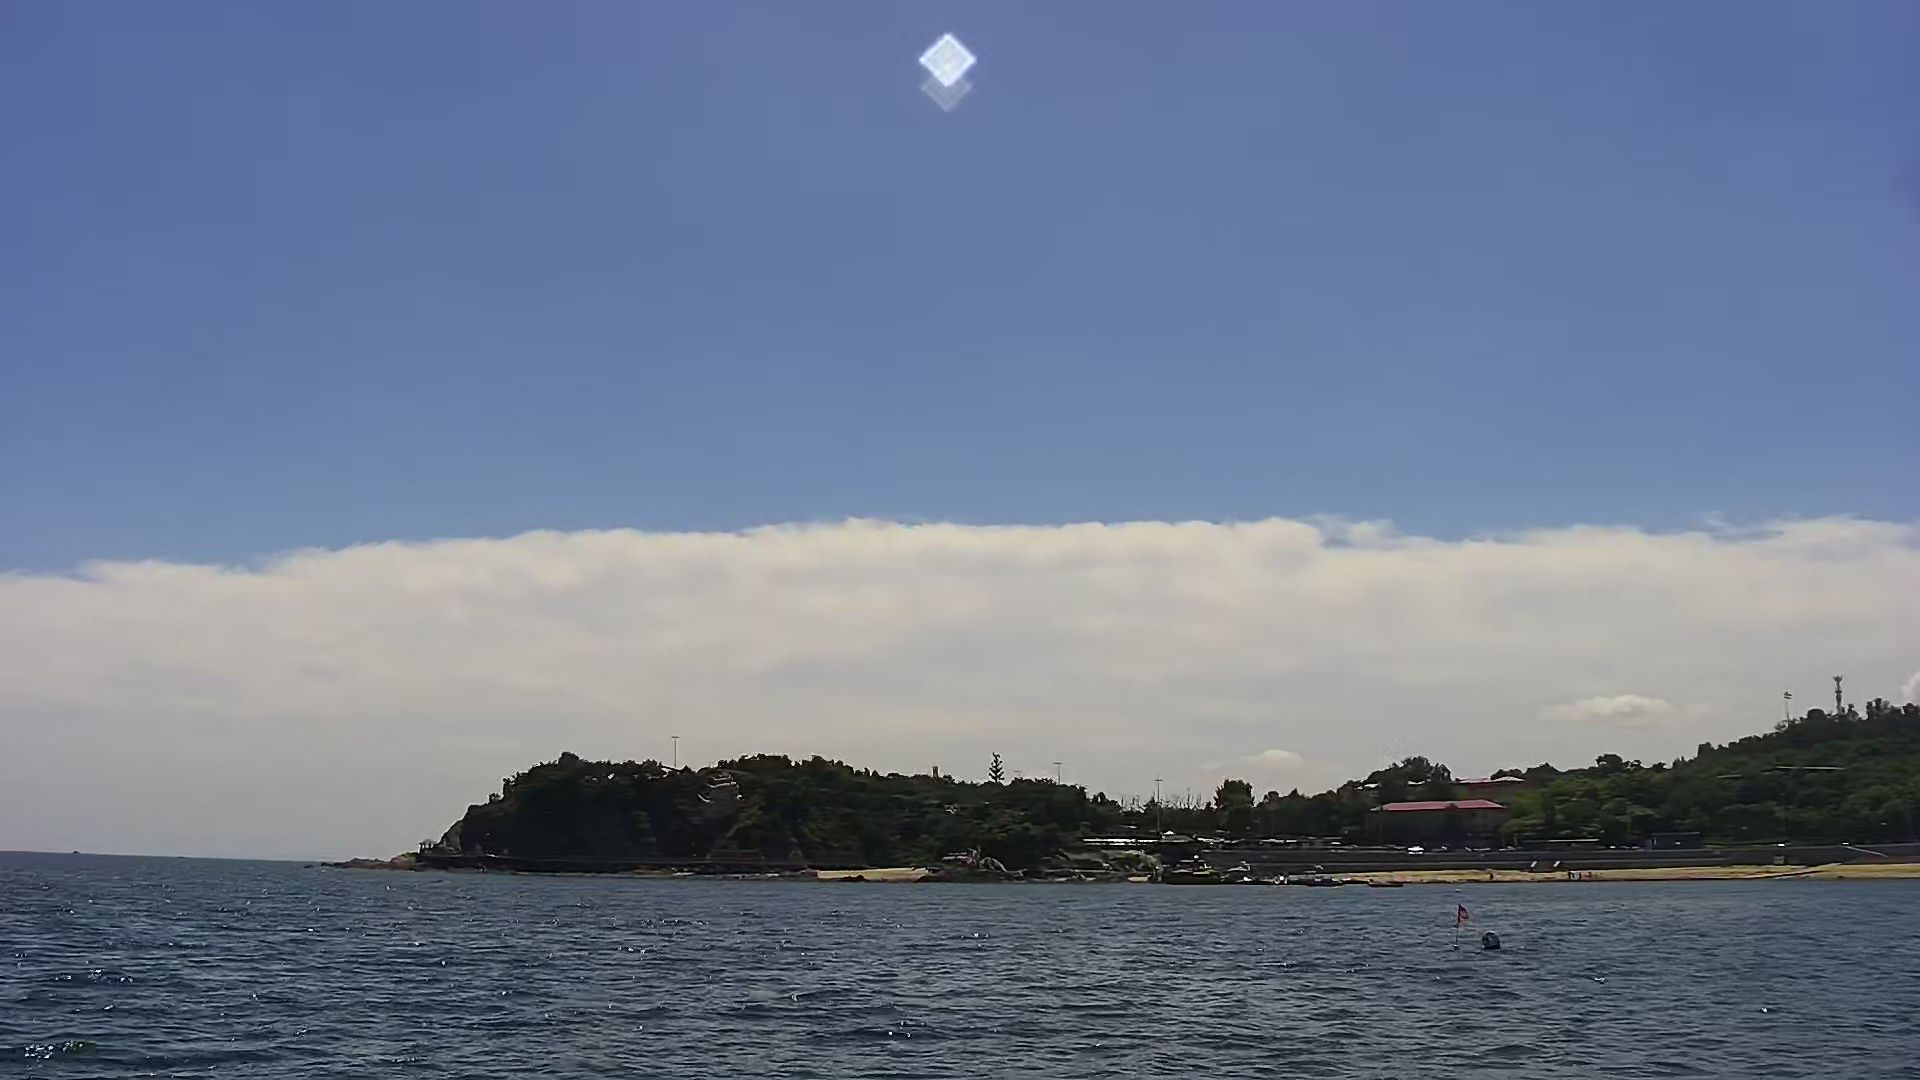ball: (1477, 927, 1507, 949)
boat: (1143, 862, 1276, 885)
buoy: (1439, 899, 1472, 949)
